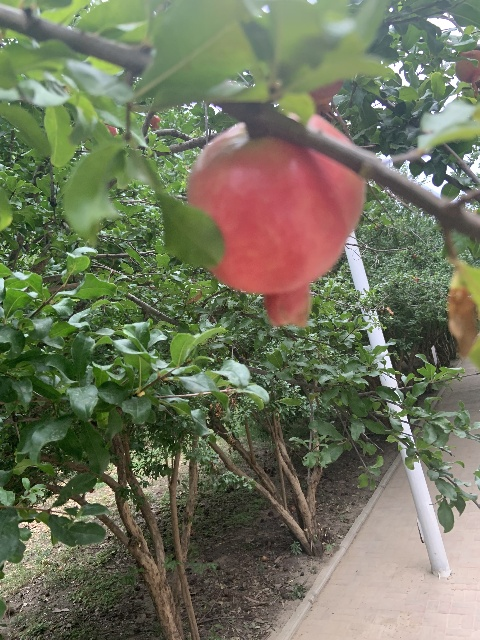ripe: (186, 113, 365, 327), (455, 50, 480, 94), (149, 114, 160, 131)
